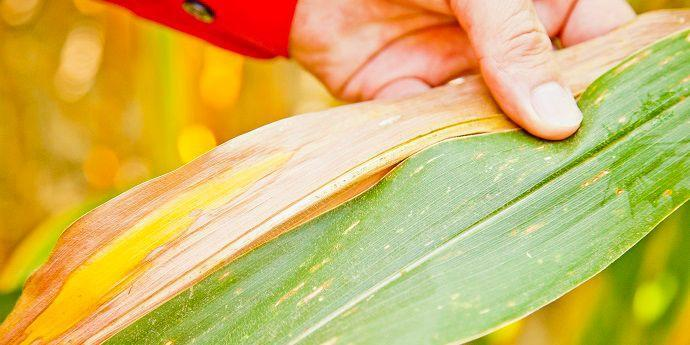Gray_Leaf_Spot: (579, 21, 690, 125), (272, 213, 366, 324), (436, 288, 531, 326), (496, 135, 561, 186), (401, 131, 456, 185), (573, 159, 637, 201), (212, 257, 252, 295), (505, 214, 552, 241), (650, 180, 676, 207), (467, 141, 491, 168), (159, 334, 193, 345)
